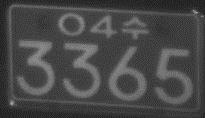0: (57, 12, 85, 37)
3: (61, 40, 102, 99), (17, 38, 55, 97)
4: (90, 13, 118, 39)
5: (153, 47, 193, 105)
6: (107, 45, 147, 102)
수: (120, 14, 149, 40)
